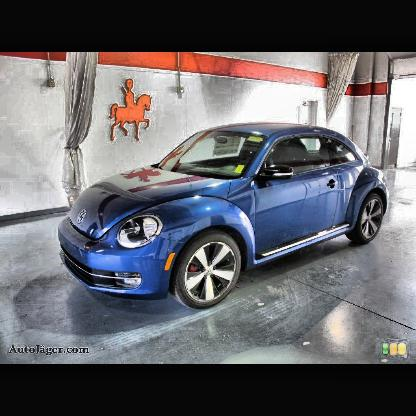Volkswagen Beetle Hatchback 2012: (61, 125, 387, 309)
